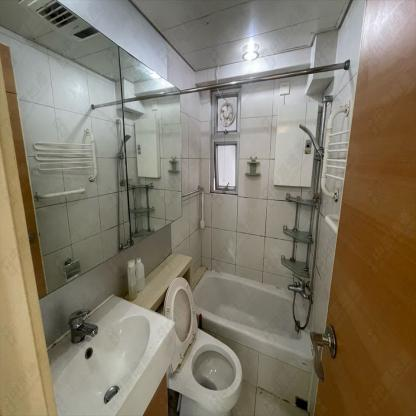Bathtub: (191, 269, 314, 362)
Exhaust Fan: (218, 100, 235, 127)
Faucet: (62, 308, 101, 341)
Toilet: (124, 253, 244, 415)
Toilet Sink: (48, 293, 178, 415)
Water Heater: (273, 103, 316, 187), (135, 120, 161, 177)
